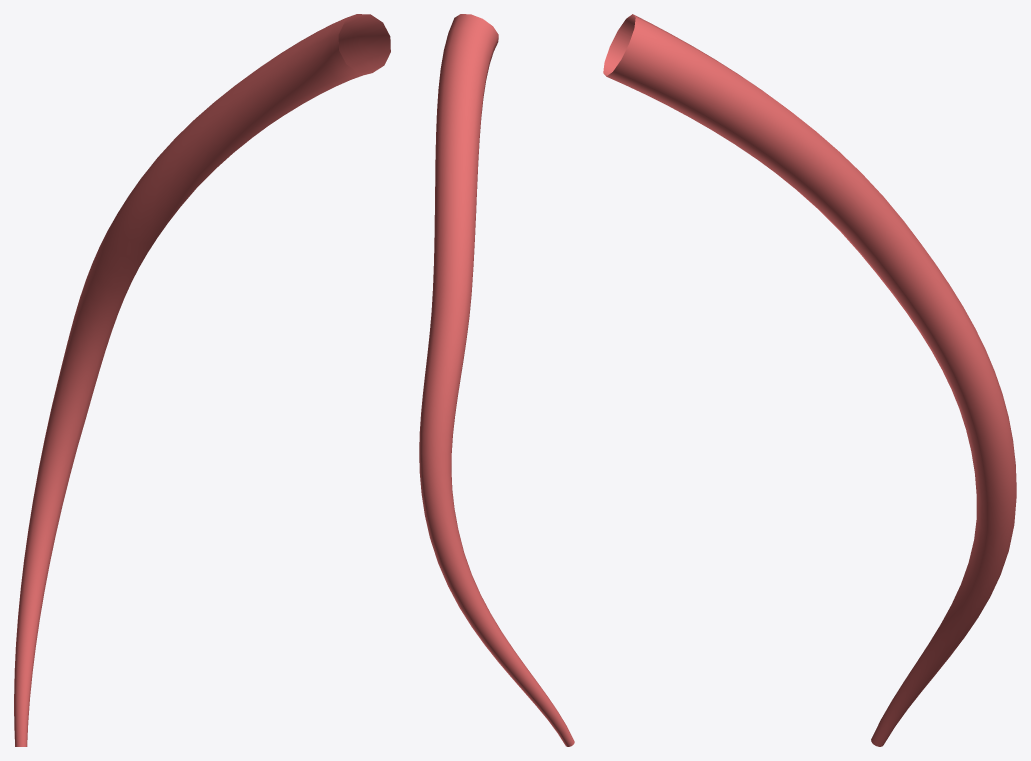
File: Branch_angular_gyrus_left.glb
3 renders of one model, left to right at view 1: azimuth 30°, elevation 25°; view 2: azimuth 150°, elevation 25°; view 3: azimuth 270°, elevation 25°, orthographic. The views are drawn at different scales.
Parts seen in each view (by area): view 1: Branch_to_angular_gyrus.l_BezierCurve.220; view 2: Branch_to_angular_gyrus.l_BezierCurve.220; view 3: Branch_to_angular_gyrus.l_BezierCurve.220.
Boxes of the visible parts, x1,y1,x2,y2 form: Branch_to_angular_gyrus.l_BezierCurve.220: (14,14,390,746); Branch_to_angular_gyrus.l_BezierCurve.220: (419,14,574,746); Branch_to_angular_gyrus.l_BezierCurve.220: (603,14,1016,746).
Size of the model in its own units: 0.00492 by 0.0137 by 0.00601.
